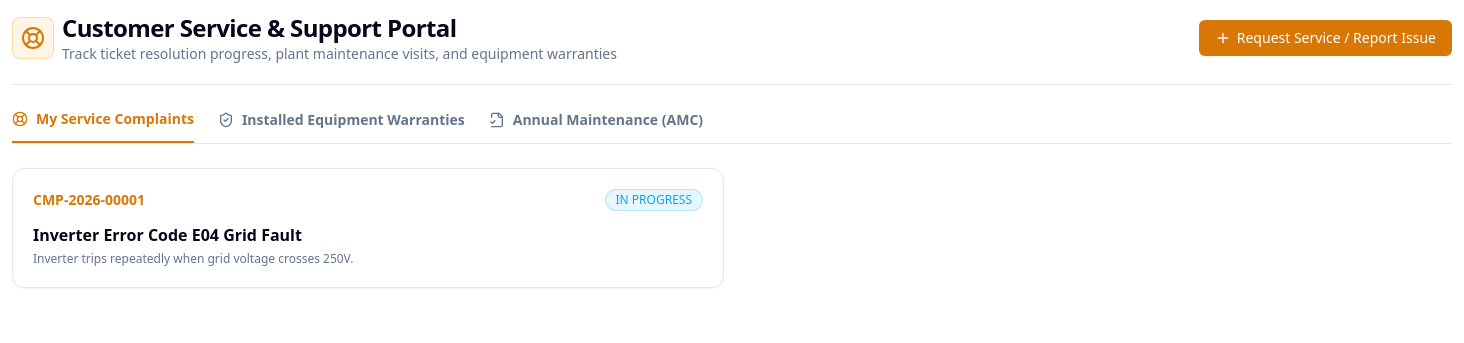
Phase 7B Frontend: Service, Warranty, AMC & Service Visits › renders Customer Service Portal with isolated customer data
Expected: the heading "Customer Service & Support Portal" is shown, [62, 11, 456, 44]
Expected: the text "CMP-2026-00001" is shown, [33, 190, 145, 210]
// Switch to Warranties Tab
What coordinates should you click on to do the following:
click the button "Installed Equipment Warranties"
I would click on:
 (341, 126)
Its box is [218, 109, 465, 143].
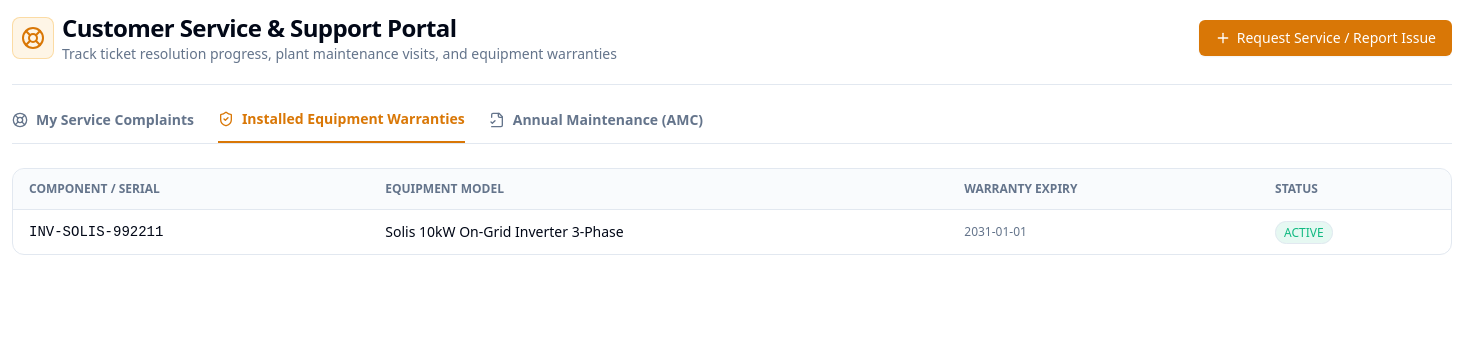
Result: the text "INV-SOLIS-992211" is shown at [13, 210, 369, 254]
// Switch to AMC Tab
What coordinates should you click on to do the following:
click the button "Annual Maintenance (AMC)"
I would click on:
 (596, 126)
Its box is [489, 109, 703, 143].
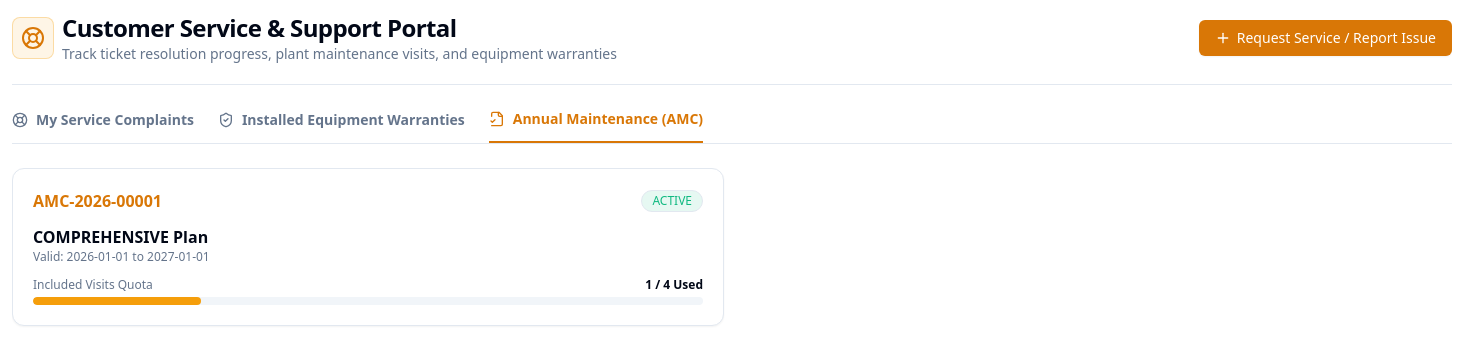
Result: the text "AMC-2026-00001" is shown at [33, 189, 162, 213]
